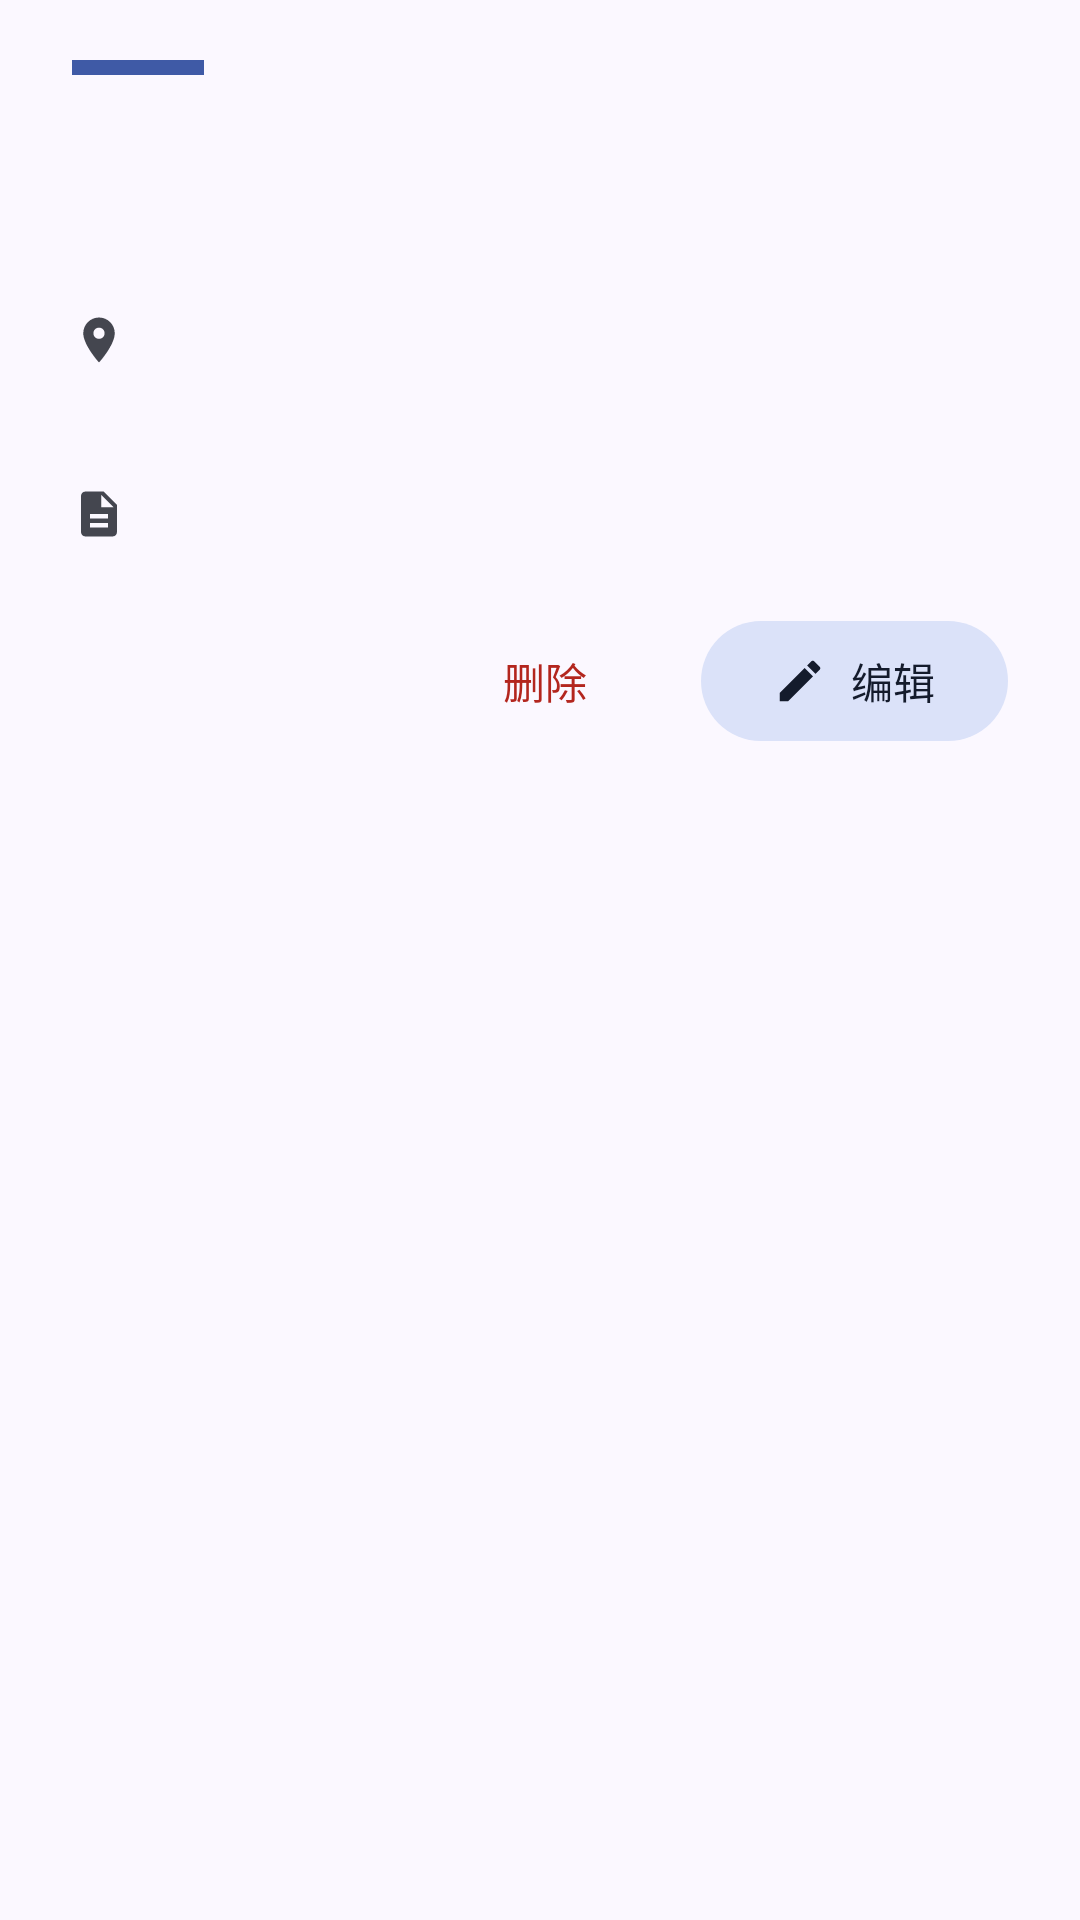

Icon click points for this 1080px×1920px phone screenshot, format point (x, y):
location: point (99, 339)
note: point (99, 514)
